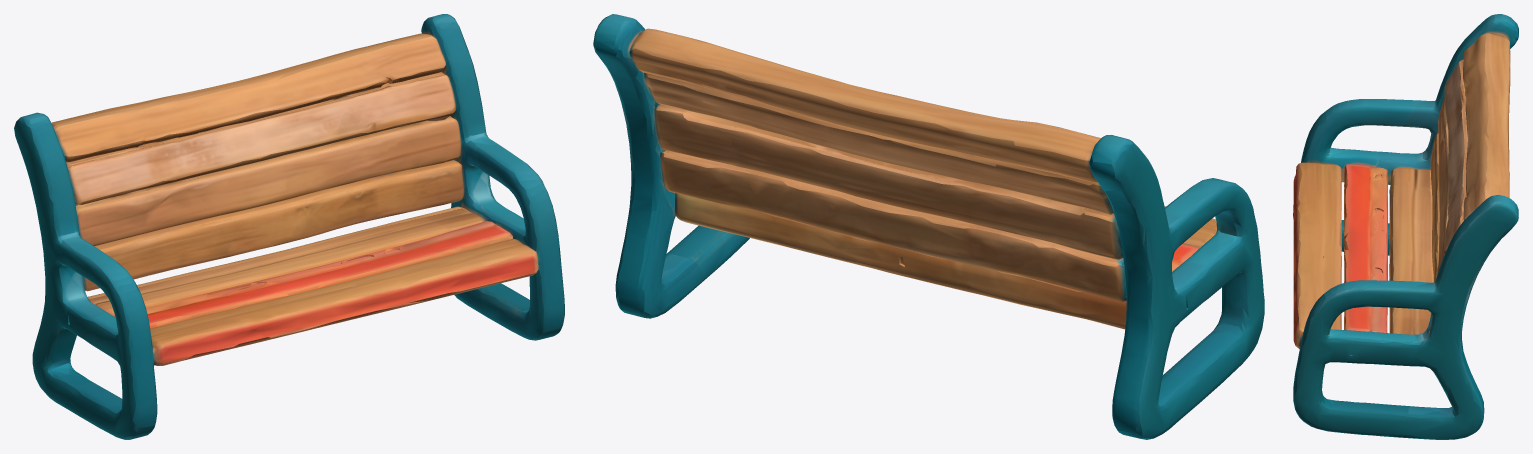
Rendered from PlaygroundBench.glb.
3 views of the same model, side by side, from view 1: azimuth 30°, elevation 25°; view 2: azimuth 150°, elevation 25°; view 3: azimuth 270°, elevation 25° (orthographic). The views are drawn at different scales.
Parts seen in each view (by area): view 1: geometry_0; view 2: geometry_0; view 3: geometry_0.
Boxes of the visible parts, <box> form: geometry_0: <box>14,14,564,439</box>; geometry_0: <box>593,14,1264,439</box>; geometry_0: <box>1293,14,1518,439</box>.
Bounding box in the file's own units: 1.5 × 0.8586 × 0.7377.
Materials: 1 (1 with a texture image).
